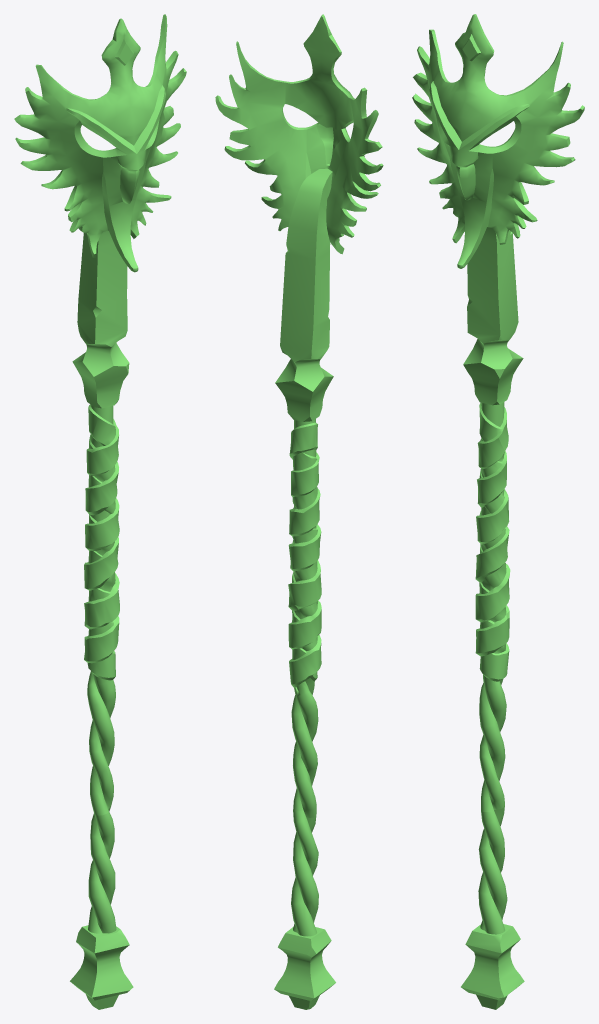
File: SM_Rune_Staff_4.fbx
3 renders of one model, left to right at view 1: azimuth 30°, elevation 25°; view 2: azimuth 150°, elevation 25°; view 3: azimuth 330°, elevation 25°, orthographic. The views are drawn at different scales.
Parts seen in each view (by area): view 1: SM_Rune_Staff_4; view 2: SM_Rune_Staff_4; view 3: SM_Rune_Staff_4.
Part boxes in pixels (x1,y1,x2,y2): SM_Rune_Staff_4: (14,14,186,1009); SM_Rune_Staff_4: (215,14,383,1009); SM_Rune_Staff_4: (412,14,584,1009).
Size of the model in its own units: 0.2585 by 1.46 by 0.1249.
